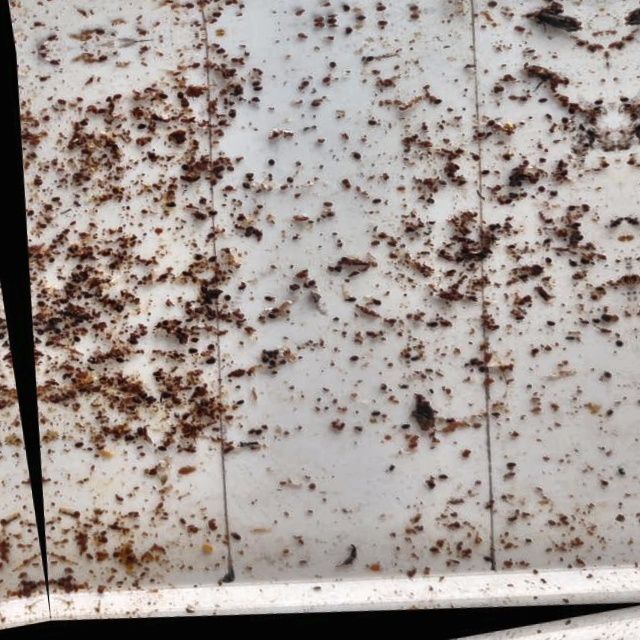varroa: (128, 129, 143, 139), (507, 25, 522, 35), (301, 104, 317, 113), (313, 79, 327, 89), (587, 98, 601, 108), (150, 99, 165, 108), (264, 315, 277, 325), (50, 105, 63, 115), (210, 123, 223, 133), (240, 84, 254, 93), (229, 535, 240, 546), (192, 202, 203, 213), (601, 407, 613, 417), (258, 300, 273, 308), (365, 200, 380, 208), (429, 181, 444, 189), (495, 154, 507, 164), (291, 83, 303, 93), (185, 342, 198, 351), (54, 303, 67, 312), (418, 199, 431, 208), (72, 126, 85, 135), (512, 274, 526, 282), (246, 88, 260, 96), (209, 53, 223, 61), (103, 269, 114, 279), (175, 169, 186, 179), (367, 413, 379, 422), (487, 412, 499, 421), (568, 234, 580, 243), (284, 288, 296, 297), (27, 186, 39, 195), (168, 96, 180, 105), (402, 14, 414, 23), (184, 67, 196, 76), (105, 98, 117, 107), (397, 424, 410, 432), (341, 299, 354, 307), (502, 192, 515, 200), (321, 64, 331, 74), (112, 363, 123, 372), (465, 154, 476, 163), (361, 122, 372, 131), (526, 347, 537, 356), (434, 474, 446, 482), (541, 319, 553, 327), (575, 257, 587, 265), (185, 352, 197, 360), (202, 363, 214, 371), (498, 199, 510, 207), (449, 150, 461, 158), (202, 215, 214, 223), (501, 461, 514, 468), (530, 98, 543, 105), (111, 557, 121, 566), (600, 370, 610, 379), (189, 258, 199, 267), (240, 230, 250, 239), (111, 311, 121, 320), (69, 324, 79, 333), (348, 155, 357, 165), (262, 162, 271, 172), (240, 177, 250, 186), (34, 231, 44, 240), (21, 217, 31, 226), (562, 204, 573, 212), (68, 342, 79, 350), (481, 121, 492, 129), (321, 214, 332, 222), (511, 95, 522, 103), (427, 99, 438, 107), (91, 62, 102, 70), (481, 557, 493, 564), (440, 419, 452, 426), (591, 285, 603, 292), (122, 346, 134, 353), (363, 244, 375, 251), (315, 204, 327, 211), (474, 170, 486, 177), (370, 23, 382, 30), (42, 68, 54, 75), (611, 338, 620, 347), (554, 117, 563, 126), (544, 189, 554, 197), (202, 349, 212, 357), (258, 359, 266, 369), (237, 187, 247, 195), (46, 204, 56, 212), (23, 159, 33, 167), (336, 29, 346, 37), (320, 21, 330, 29), (426, 548, 437, 555), (107, 530, 118, 537), (538, 218, 549, 225), (367, 303, 378, 310), (346, 358, 357, 365), (201, 238, 212, 245), (232, 405, 243, 412), (358, 58, 369, 65), (500, 562, 512, 568), (474, 367, 483, 375), (465, 360, 474, 368), (566, 222, 578, 228), (602, 222, 614, 228), (269, 352, 277, 361), (219, 299, 228, 307), (303, 283, 312, 291), (204, 261, 213, 269), (37, 296, 46, 304), (71, 271, 80, 279), (65, 279, 74, 287), (157, 326, 166, 334), (221, 170, 230, 178), (586, 317, 596, 324), (607, 218, 617, 225), (424, 324, 434, 331), (59, 317, 69, 324), (72, 450, 83, 456), (79, 301, 90, 307), (306, 487, 314, 495), (99, 543, 107, 551), (540, 257, 548, 265), (129, 403, 137, 411), (98, 257, 106, 265), (44, 265, 52, 273), (33, 309, 41, 317), (76, 278, 84, 286), (33, 337, 41, 345), (611, 215, 620, 222), (400, 354, 409, 361), (31, 261, 40, 268), (69, 285, 78, 292), (155, 451, 165, 457), (512, 317, 522, 323), (479, 4, 491, 9), (449, 524, 457, 531), (538, 238, 546, 245), (150, 377, 158, 384), (266, 364, 273, 372), (50, 335, 58, 342), (281, 181, 289, 188), (240, 236, 249, 242), (105, 306, 114, 312), (252, 434, 259, 441), (248, 233, 255, 240), (565, 261, 573, 267), (251, 238, 259, 244), (533, 187, 540, 193), (598, 8, 602, 15), (24, 261, 28, 267)
